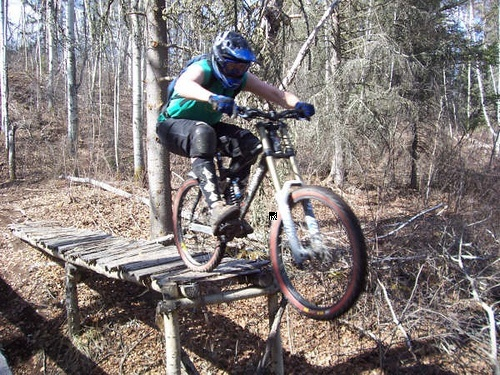car: (171, 106, 367, 319)
person: (156, 32, 318, 235)
person/foot: (211, 205, 241, 235)
person/hand: (210, 95, 236, 117), (296, 102, 316, 120)
person/head: (212, 30, 252, 91)
